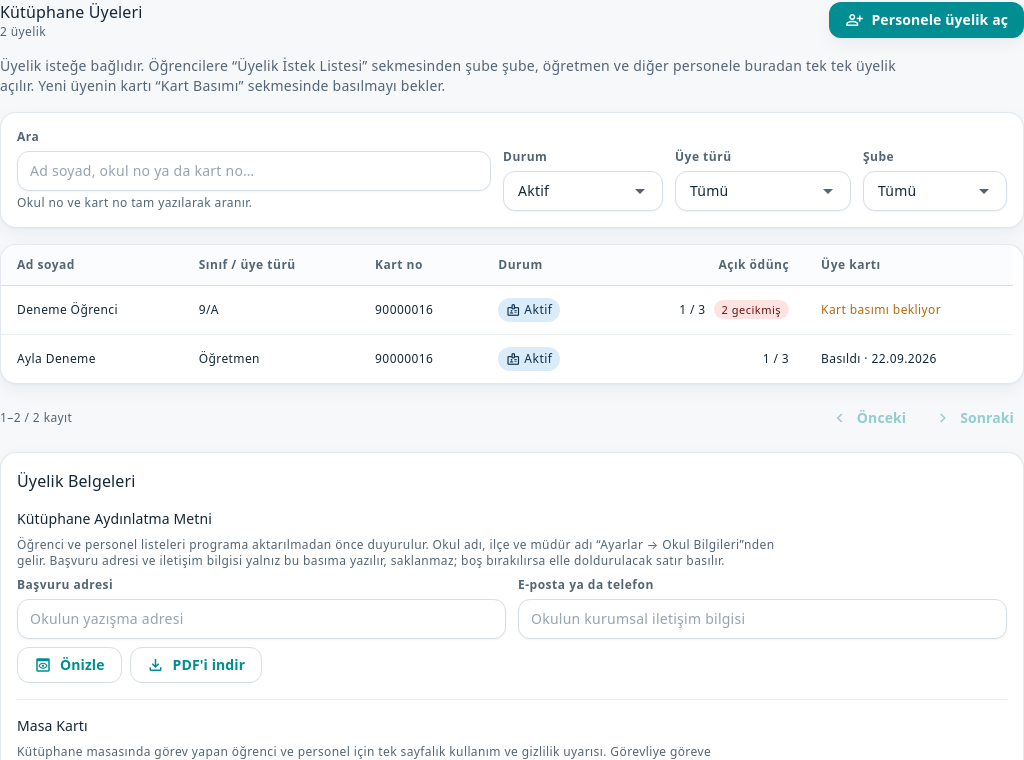
Test: UyelerSekmesi › kayba dönüşen ödünç (F7) açık ya da gecikmiş görünmez
Click the button with aria-label "Deneme Öğrenci üyeliğini aç" at (507, 310), box x1=1 y1=286 x2=1013 y2=334
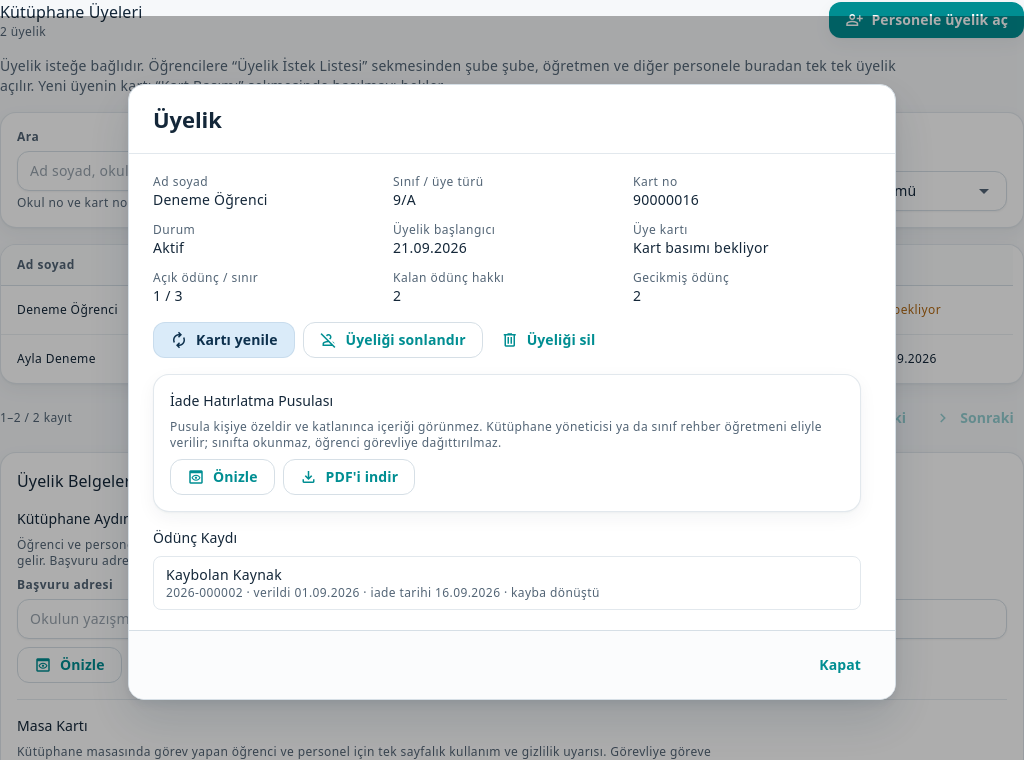
Result: the text "Kaybolan Kaynak" is shown at x1=166 y1=565 x2=282 y2=584
Result: the element "Ödünç Kaydı" shows "kayba dönüştü" at x1=500 y1=584 x2=600 y2=601
